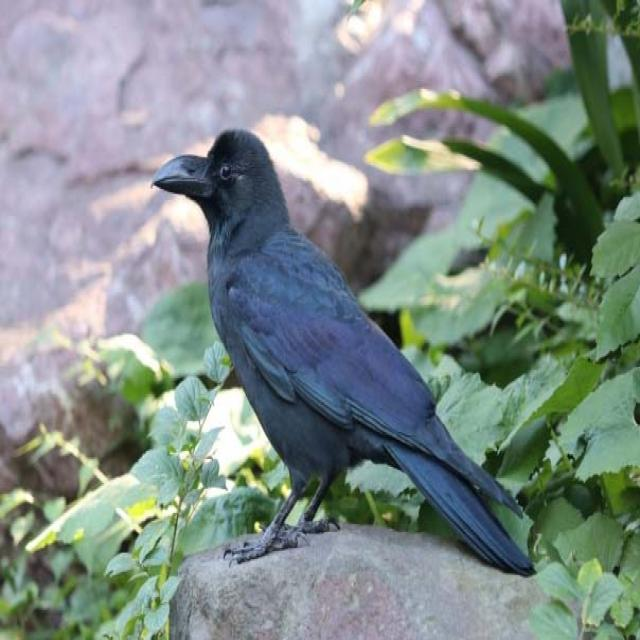crow: (138, 120, 542, 603)
